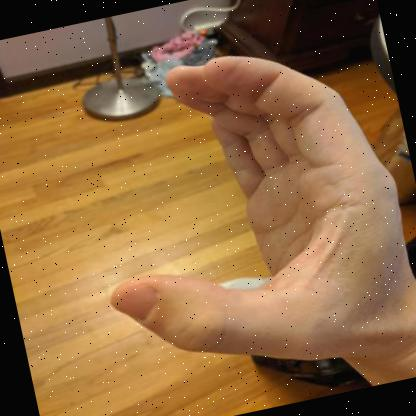C: (110, 55, 416, 360)
